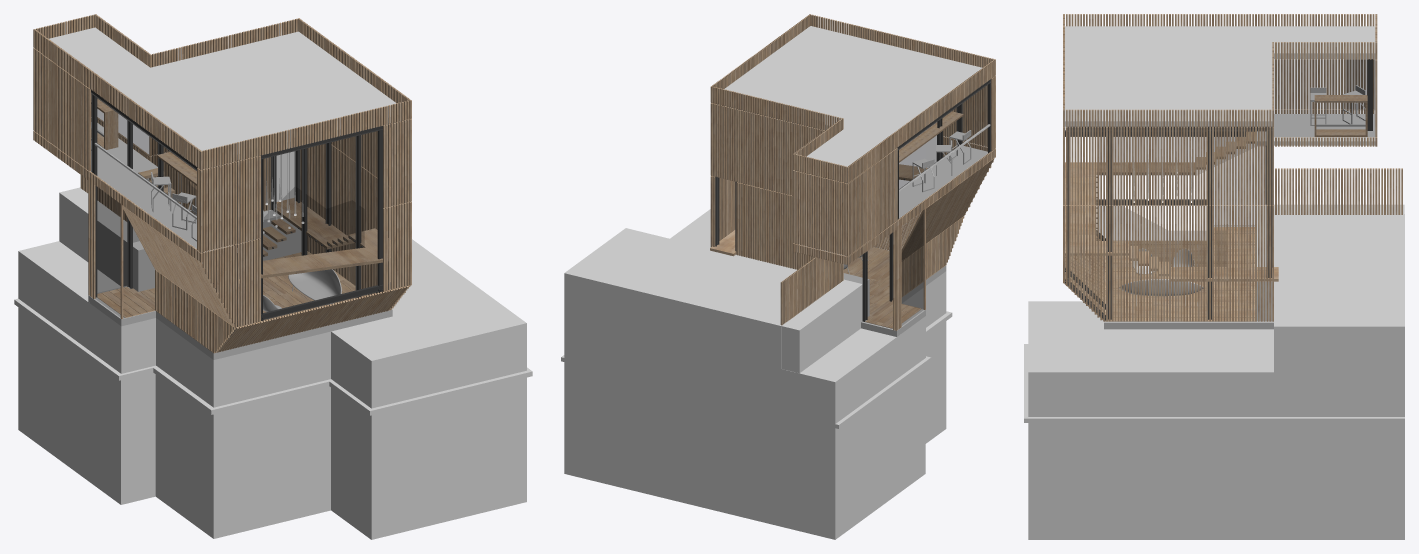
File: rooftop_bar_addition.glb
3 views of the same model, side by side, from view 1: azimuth 30°, elevation 25°; view 2: azimuth 150°, elevation 25°; view 3: azimuth 270°, elevation 25° (orthographic). The views are drawn at different scales.
Visible parts, largest first — view 1: edifice, glass, first floor wood, second floor wood, ceiling, beams, stair floor, wood floor, Furniture, lamps; view 2: edifice, second floor wood, ceiling, first floor wood, glass, beams, wood floor, stair floor, Furniture; view 3: edifice, first floor wood, second floor wood, ceiling, glass, stair floor, wood floor, beams, Furniture.
Part boxes in pixels (box(x1,y1,x2,y2)): edifice: box(14, 122, 532, 539); glass: box(92, 91, 382, 320); first floor wood: box(33, 117, 411, 353); second floor wood: box(33, 14, 411, 252); ceiling: box(49, 27, 396, 159); beams: box(91, 89, 406, 326); stair floor: box(91, 94, 390, 283); wood floor: box(97, 251, 367, 352); Furniture: box(91, 123, 341, 319); lamps: box(263, 149, 304, 233); edifice: box(561, 124, 990, 539); second floor wood: box(710, 14, 995, 256); ceiling: box(724, 26, 982, 166); first floor wood: box(710, 136, 995, 330); glass: box(844, 80, 989, 328); beams: box(715, 79, 991, 321); wood floor: box(843, 247, 945, 328); stair floor: box(710, 111, 963, 256); Furniture: box(843, 130, 971, 274); edifice: box(1024, 114, 1404, 539); first floor wood: box(1063, 109, 1402, 321); second floor wood: box(1063, 14, 1377, 204); ceiling: box(1065, 26, 1375, 126); glass: box(1099, 59, 1374, 266); stair floor: box(1065, 95, 1367, 281); wood floor: box(1105, 227, 1254, 321); beams: box(1065, 59, 1372, 320); Furniture: box(1119, 85, 1365, 305).
Size of the model in its own units: 9.52 by 11.87 by 10.63.
Materials: 9 (3 with a texture image).
